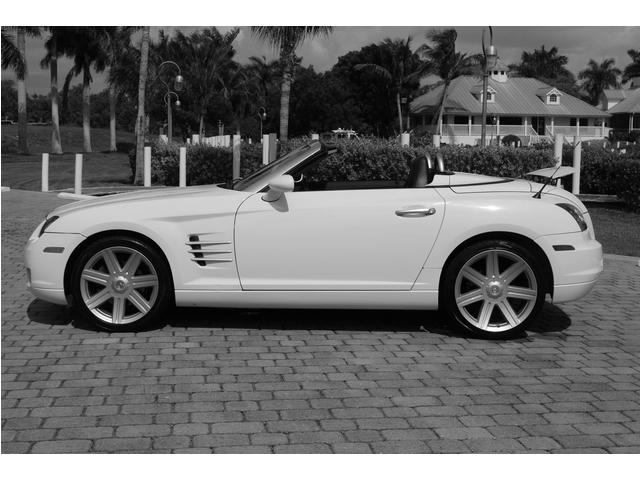car: (26, 139, 607, 343)
